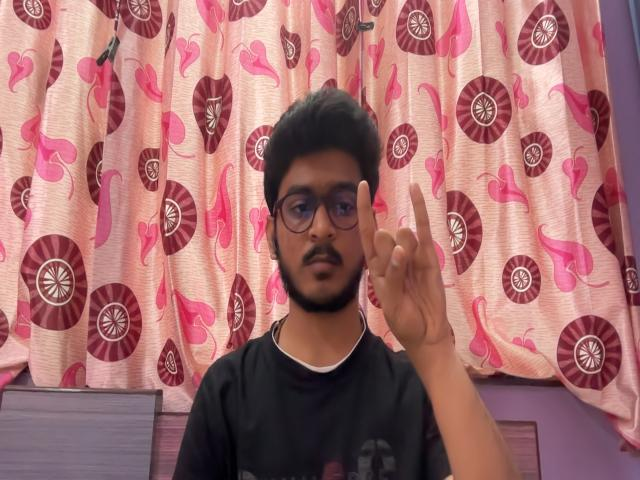I Love You: (347, 172, 462, 358)
